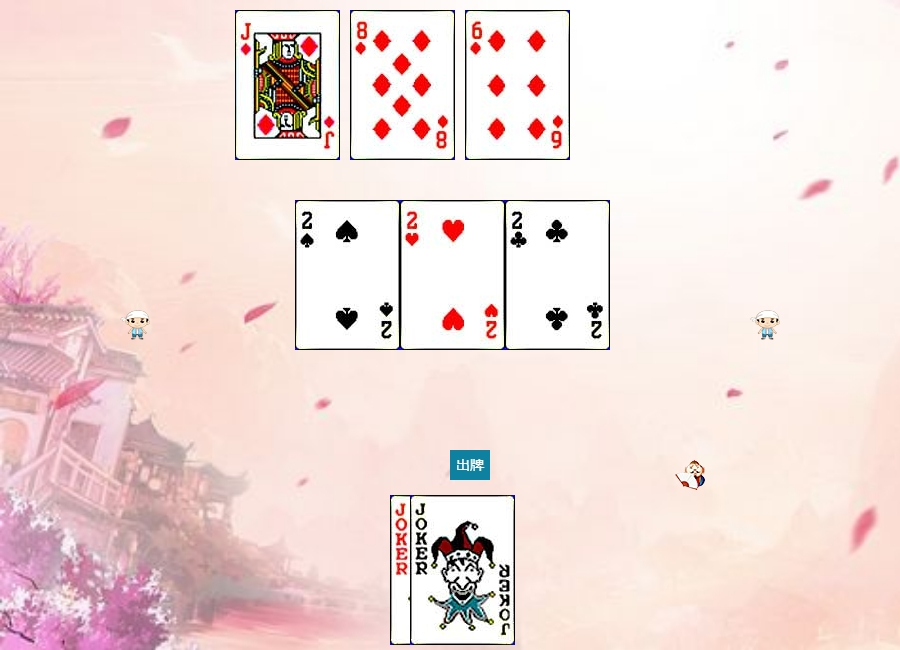11~1: (235, 10, 340, 160)
15~2: (505, 200, 610, 350)
15~3: (400, 200, 505, 350)
15~4: (295, 200, 400, 350)
17~3: (410, 495, 515, 645)
18~4: (390, 495, 495, 645)
6~1: (465, 10, 570, 160)
8~1: (350, 10, 455, 160)
